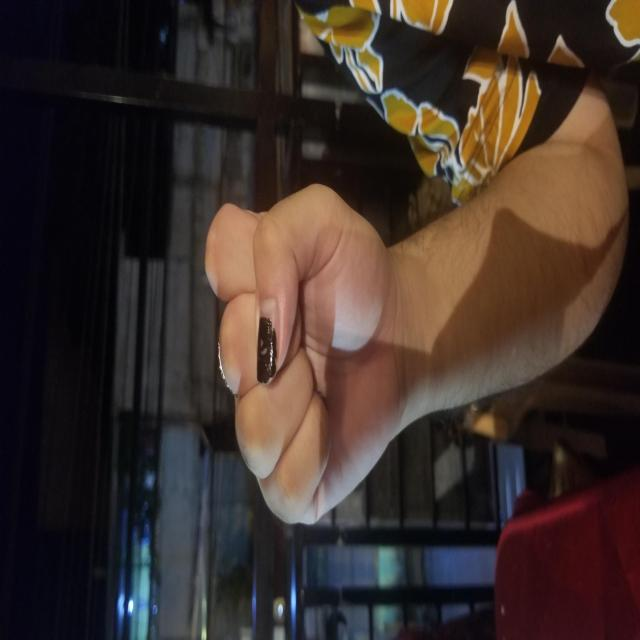S: (105, 205, 458, 391)
